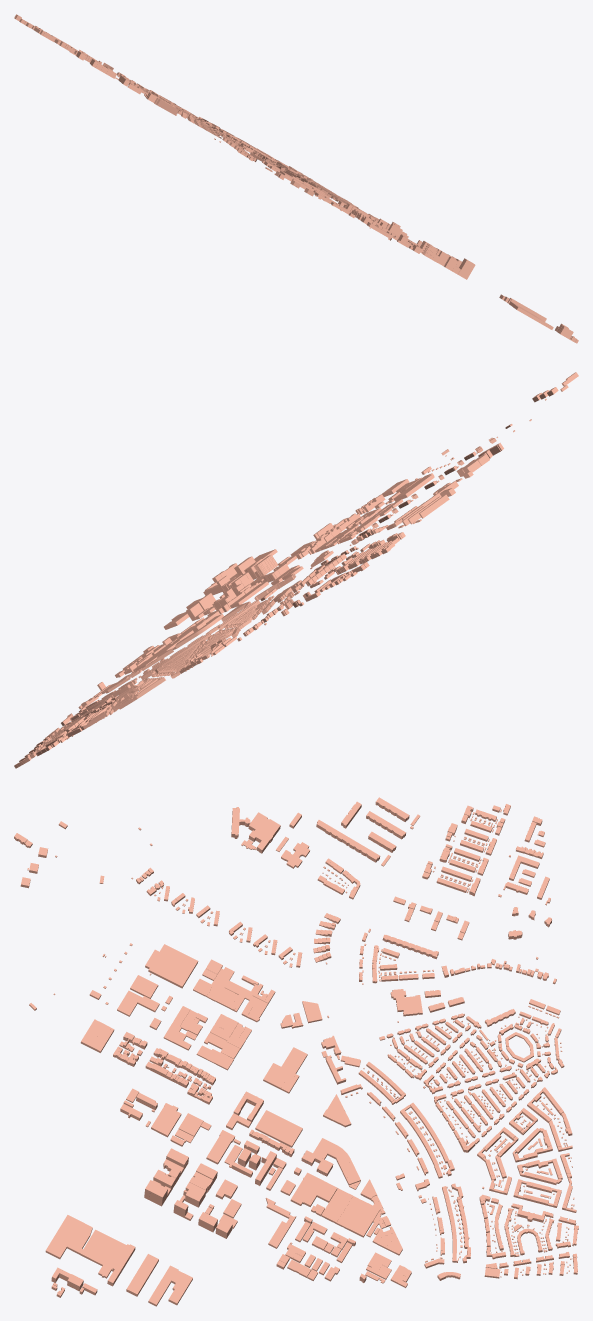
3 renders of one model, top to bottom at view 1: azimuth 30°, elevation 25°; view 2: azimuth 150°, elevation 25°; view 3: azimuth 270°, elevation 25°, orthographic. The views are drawn at different scales.
Size of the model in its own units: 1063 by 785 by 1279.
